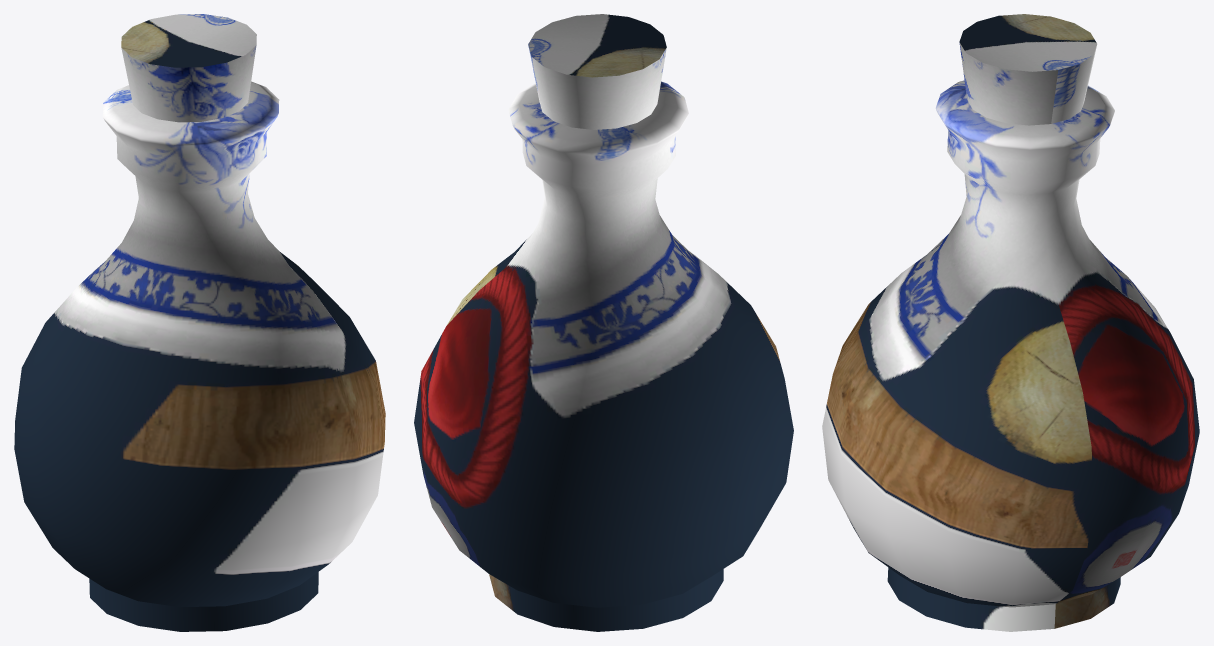
File: porcelain_grenade.glb
3 views of the same model, side by side, from view 1: azimuth 30°, elevation 25°; view 2: azimuth 150°, elevation 25°; view 3: azimuth 270°, elevation 25° (orthographic).
Visible parts, largest first — view 1: 手雷 青花瓷; view 2: 手雷 青花瓷; view 3: 手雷 青花瓷.
Part boxes in pixels (x1,y1,x2,y2): 手雷 青花瓷: (14, 14, 385, 631); 手雷 青花瓷: (414, 14, 793, 631); 手雷 青花瓷: (822, 14, 1199, 631).
Size of the model in its own units: 0.111 by 0.1767 by 0.1109.
1 material, 1 textured.
